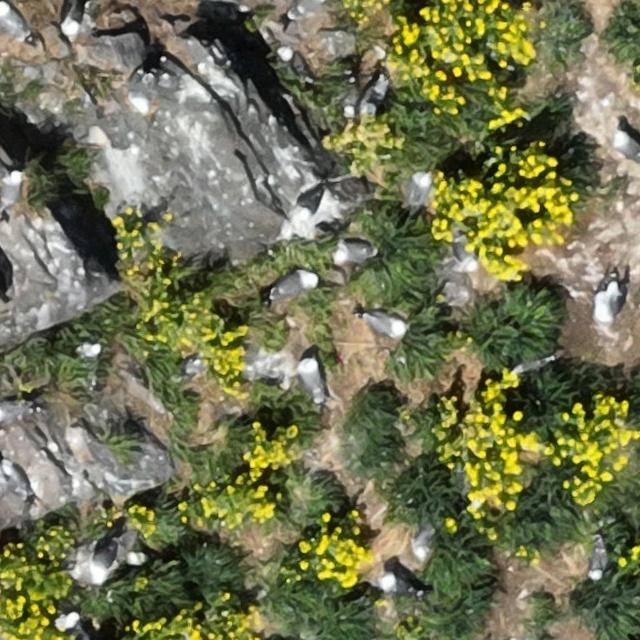umineko: (91, 534, 119, 586), (450, 229, 479, 274), (296, 183, 328, 223), (271, 271, 315, 296), (359, 78, 386, 114), (299, 359, 323, 399), (597, 284, 622, 322), (364, 313, 405, 336), (407, 172, 430, 210), (1, 6, 27, 38), (614, 130, 639, 161), (61, 1, 85, 32), (336, 243, 372, 263), (2, 172, 22, 207), (381, 575, 416, 595), (590, 540, 605, 578), (292, 0, 325, 15), (78, 340, 102, 358)
